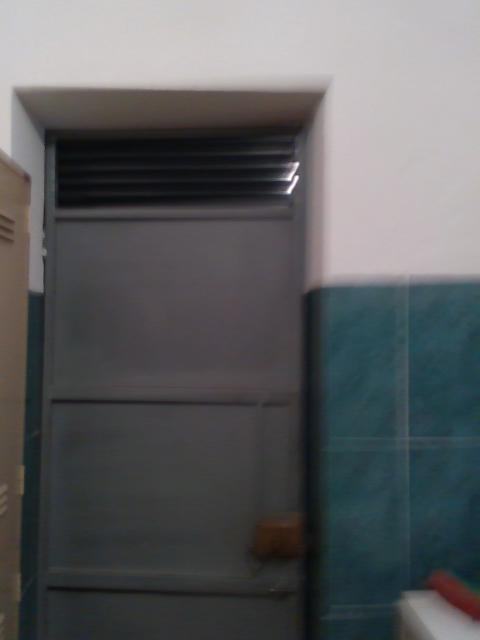door: (42, 124, 304, 640)
